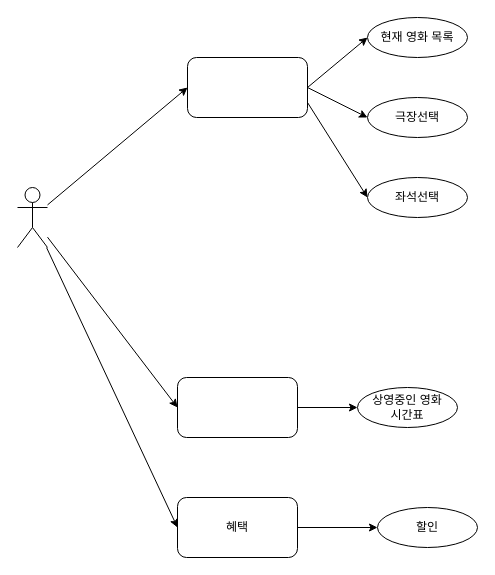
Image size: 495x575. Some labels were removed from this diagram. Each missing label, with the box of its shape:
Actor: (16, 186, 48, 248)
빠른예매: (186, 56, 308, 118)
상영시간표: (176, 376, 298, 438)
